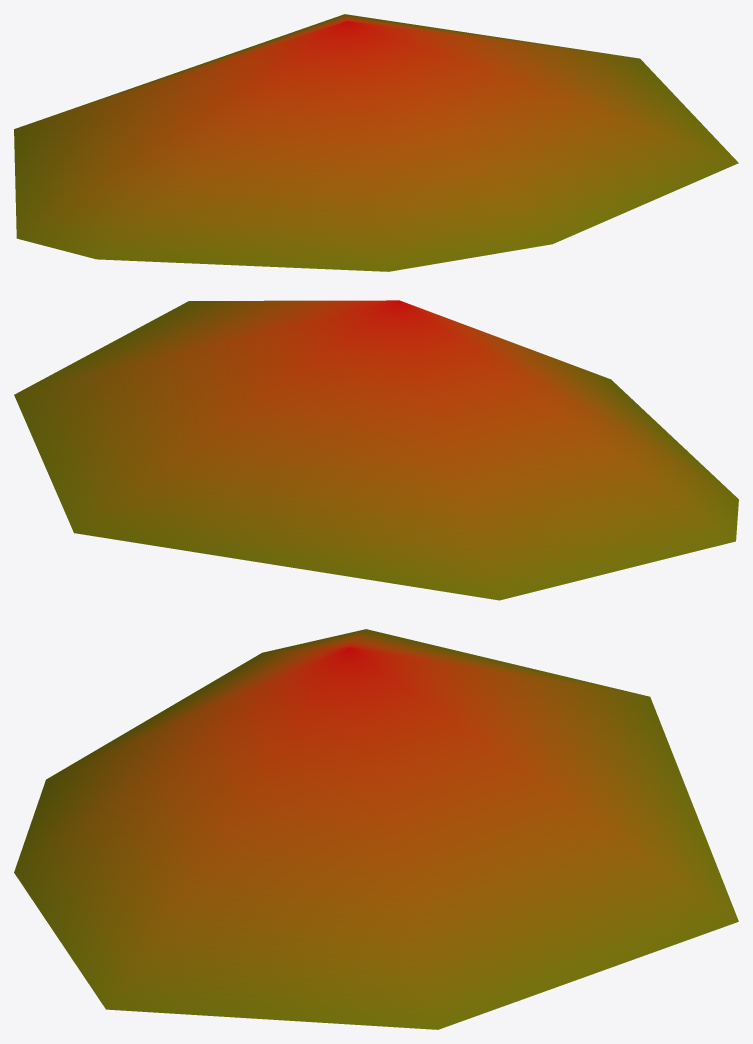
File: Yellow Archangel_LOD4_Var10_wcwmcfvia.fbx
The picture shows the model from 3 angles, top to bottom: view 1: azimuth 30°, elevation 25°; view 2: azimuth 150°, elevation 25°; view 3: azimuth 270°, elevation 25°; orthographic projection. The views are drawn at different scales.
Parts seen in each view (by area): view 1: _e6ka_Var10_LOD4; view 2: _e6ka_Var10_LOD4; view 3: _e6ka_Var10_LOD4.
Boxes of the visible parts, x1,y1,x2,y2 form: _e6ka_Var10_LOD4: (14, 14, 738, 271); _e6ka_Var10_LOD4: (14, 300, 738, 600); _e6ka_Var10_LOD4: (14, 629, 738, 1029).
Bounding box in the file's own units: 9.38 × 1.97 × 7.17.
